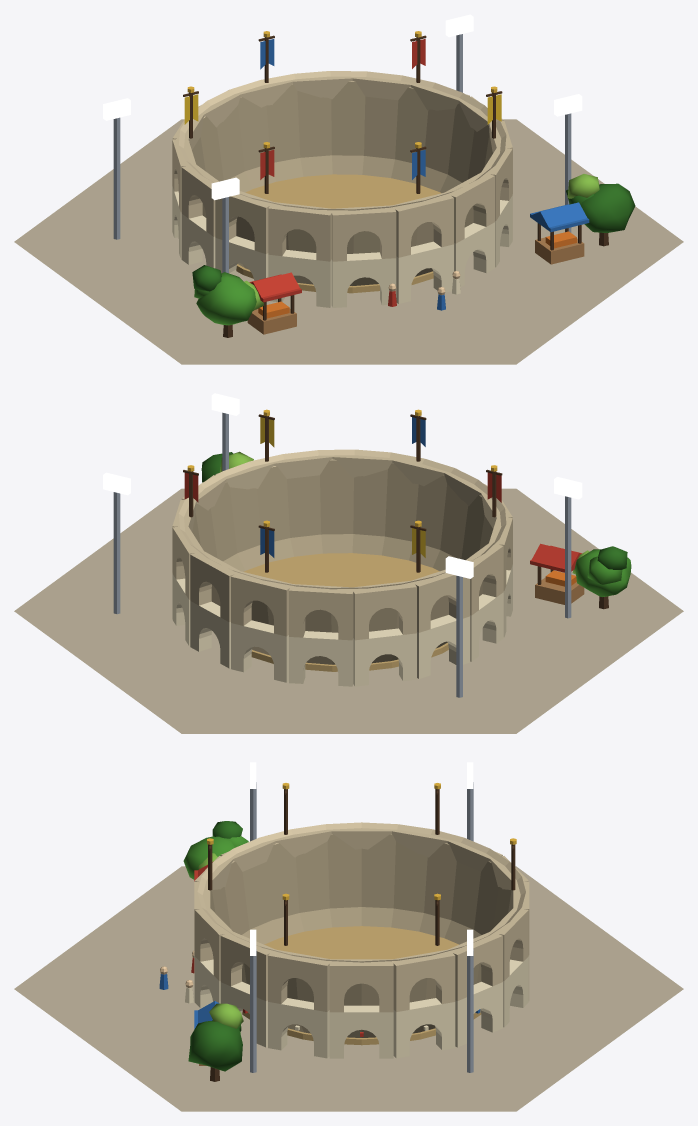
File: district_entertainment_complex_3.fbx
3 views of the same model, one above another, from view 1: azimuth 30°, elevation 25°; view 2: azimuth 150°, elevation 25°; view 3: azimuth 270°, elevation 25° (orthographic).
Parts seen in each view (by area): view 1: district_entertainment_complex_3; view 2: district_entertainment_complex_3; view 3: district_entertainment_complex_3.
Part boxes in pixels (bbox=[...]): district_entertainment_complex_3: bbox=[14, 14, 683, 364]; district_entertainment_complex_3: bbox=[14, 393, 683, 733]; district_entertainment_complex_3: bbox=[14, 762, 683, 1111].
Bounding box in the file's own units: 182 × 51.6 × 210.
